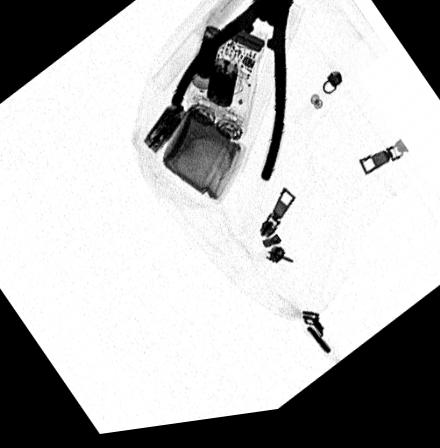Pliers: (168, 0, 295, 190)
